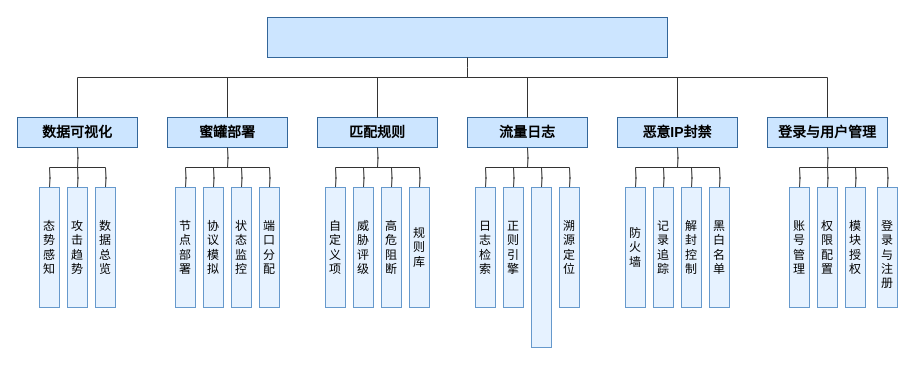
The diagram is 915 pixels wide and 365 high, and some of its shapes have lost their labels. The shapes that lost their labels are listed below. From the top down, each one's box as (x1, y1, x2, y2) in pixels, then its label:
(266, 16, 668, 58): 基于低交互蜜罐的恶意流量识别与防御系统
(530, 186, 552, 348): A I A g e n t
